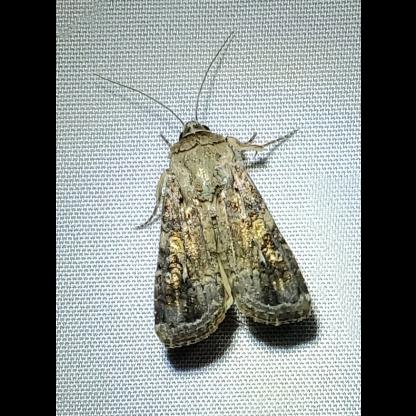Fall Armyworm Moth: (90, 26, 316, 352)
